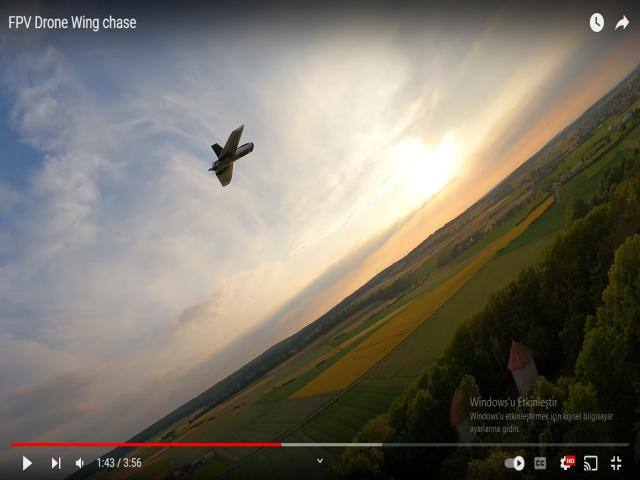plane: (209, 125, 254, 187)
